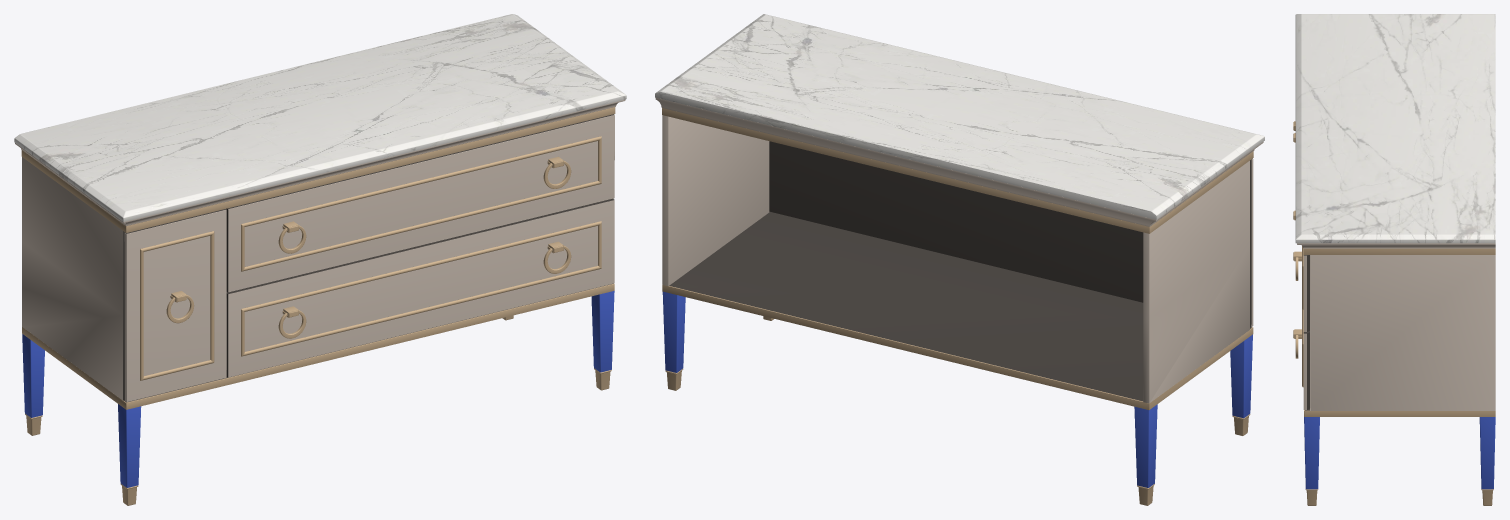
The picture shows the model from 3 angles, left to right: view 1: azimuth 30°, elevation 25°; view 2: azimuth 150°, elevation 25°; view 3: azimuth 270°, elevation 25°; orthographic projection. The views are drawn at different scales.
Parts seen in each view (by area): view 1: AV06; view 2: AV06; view 3: AV06.
Boxes of the visible parts, x1,y1,x2,y2 form: AV06: (14,14,626,505); AV06: (655,14,1264,505); AV06: (1293,14,1495,505).
Bounding box in the file's own units: 1.49 × 0.847 × 0.567.
Materials: 6 (3 with a texture image).
